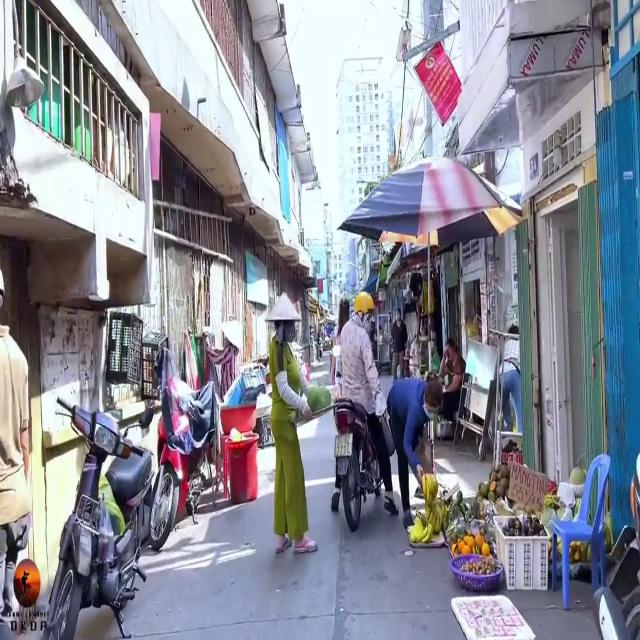bien_trang: (336, 430, 353, 459)
